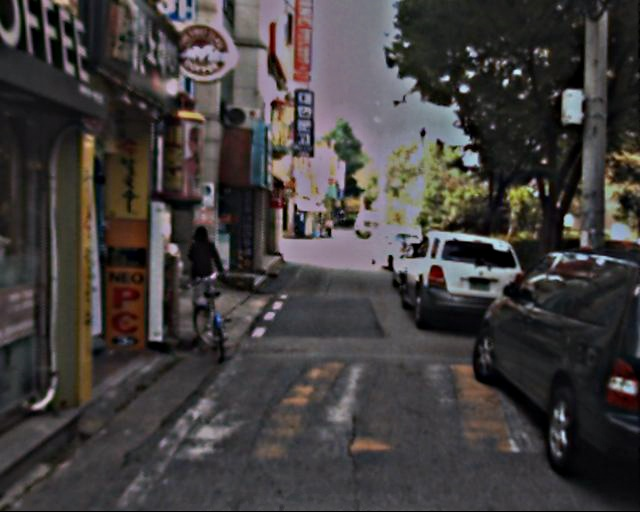person: (185, 224, 227, 314)
